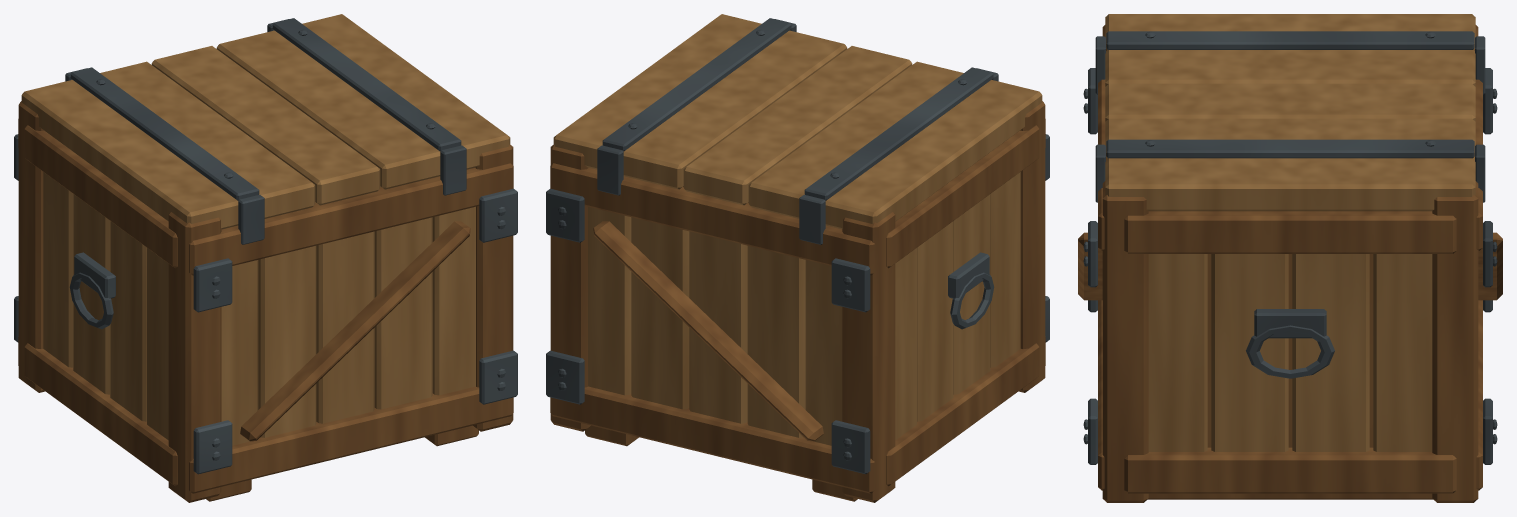
Rendered from storage_crate.glb.
3 views of the same model, side by side, from view 1: azimuth 30°, elevation 25°; view 2: azimuth 150°, elevation 25°; view 3: azimuth 270°, elevation 25° (orthographic). The views are drawn at different scales.
Parts seen in each view (by area): view 1: StorageCrate_Mesh; view 2: StorageCrate_Mesh; view 3: StorageCrate_Mesh.
Boxes of the visible parts, <box> form: StorageCrate_Mesh: <box>14,14,517,502</box>; StorageCrate_Mesh: <box>546,14,1049,502</box>; StorageCrate_Mesh: <box>1078,14,1502,502</box>.
Bounding box in the file's own units: 1.12 × 0.941 × 1.06.
1 material, 1 textured.
